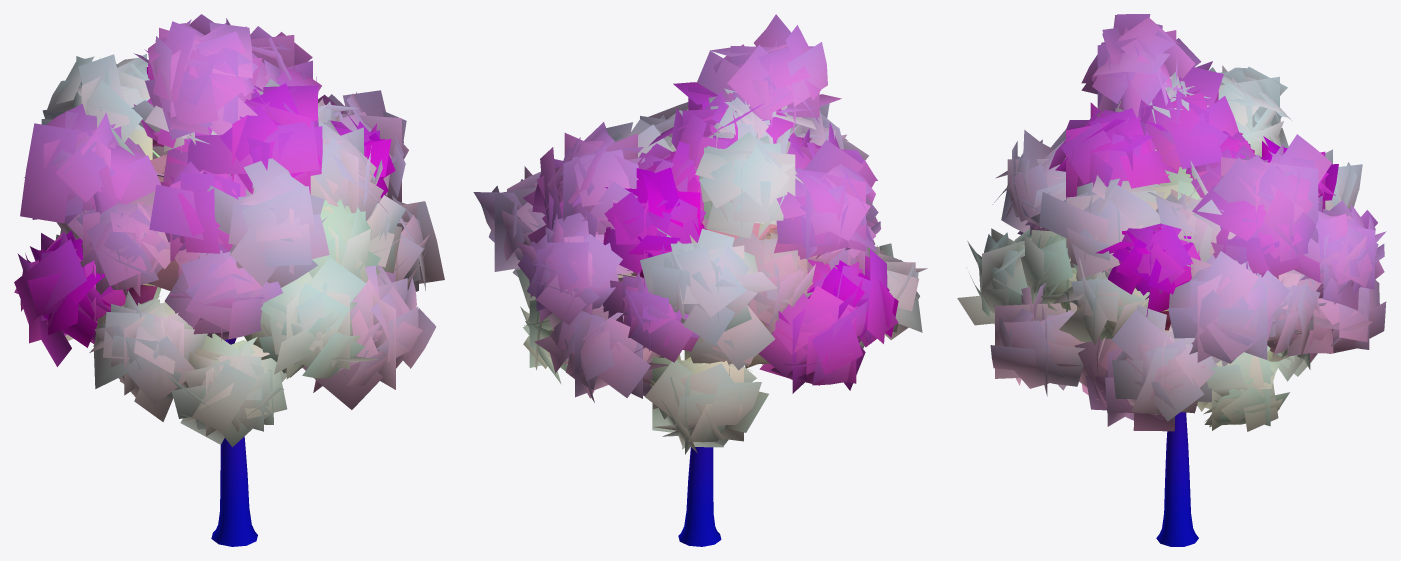
The model's file is broadleaf_a_lod0.glb.
3 views of the same model, side by side, from view 1: azimuth 30°, elevation 25°; view 2: azimuth 150°, elevation 25°; view 3: azimuth 270°, elevation 25° (orthographic). The views are drawn at different scales.
Visible parts, largest first — view 1: broadleaf_a_lod0; view 2: broadleaf_a_lod0; view 3: broadleaf_a_lod0.
Boxes of the visible parts, x1,y1,x2,y2 form: broadleaf_a_lod0: (14,14,444,546); broadleaf_a_lod0: (473,14,927,546); broadleaf_a_lod0: (957,14,1386,546).
Bounding box in the file's own units: 11.22 × 14.52 × 11.49.
